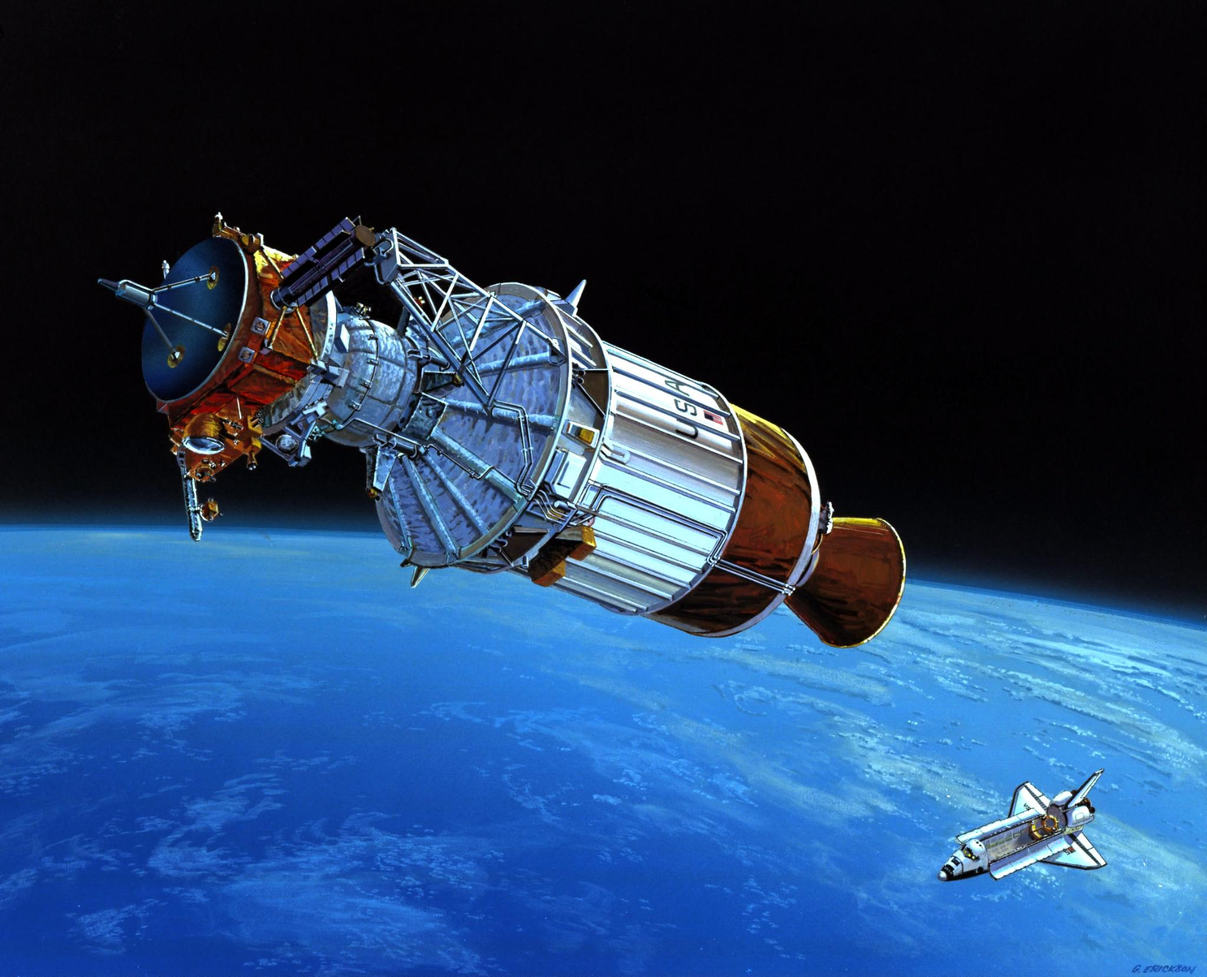antenna: (92, 234, 252, 406)
body: (372, 278, 823, 640)
thruster: (781, 513, 911, 651), (246, 450, 259, 471), (207, 512, 215, 524), (208, 476, 218, 484), (255, 410, 263, 418), (256, 418, 264, 426), (216, 511, 225, 518), (207, 496, 215, 503), (199, 503, 207, 510)
